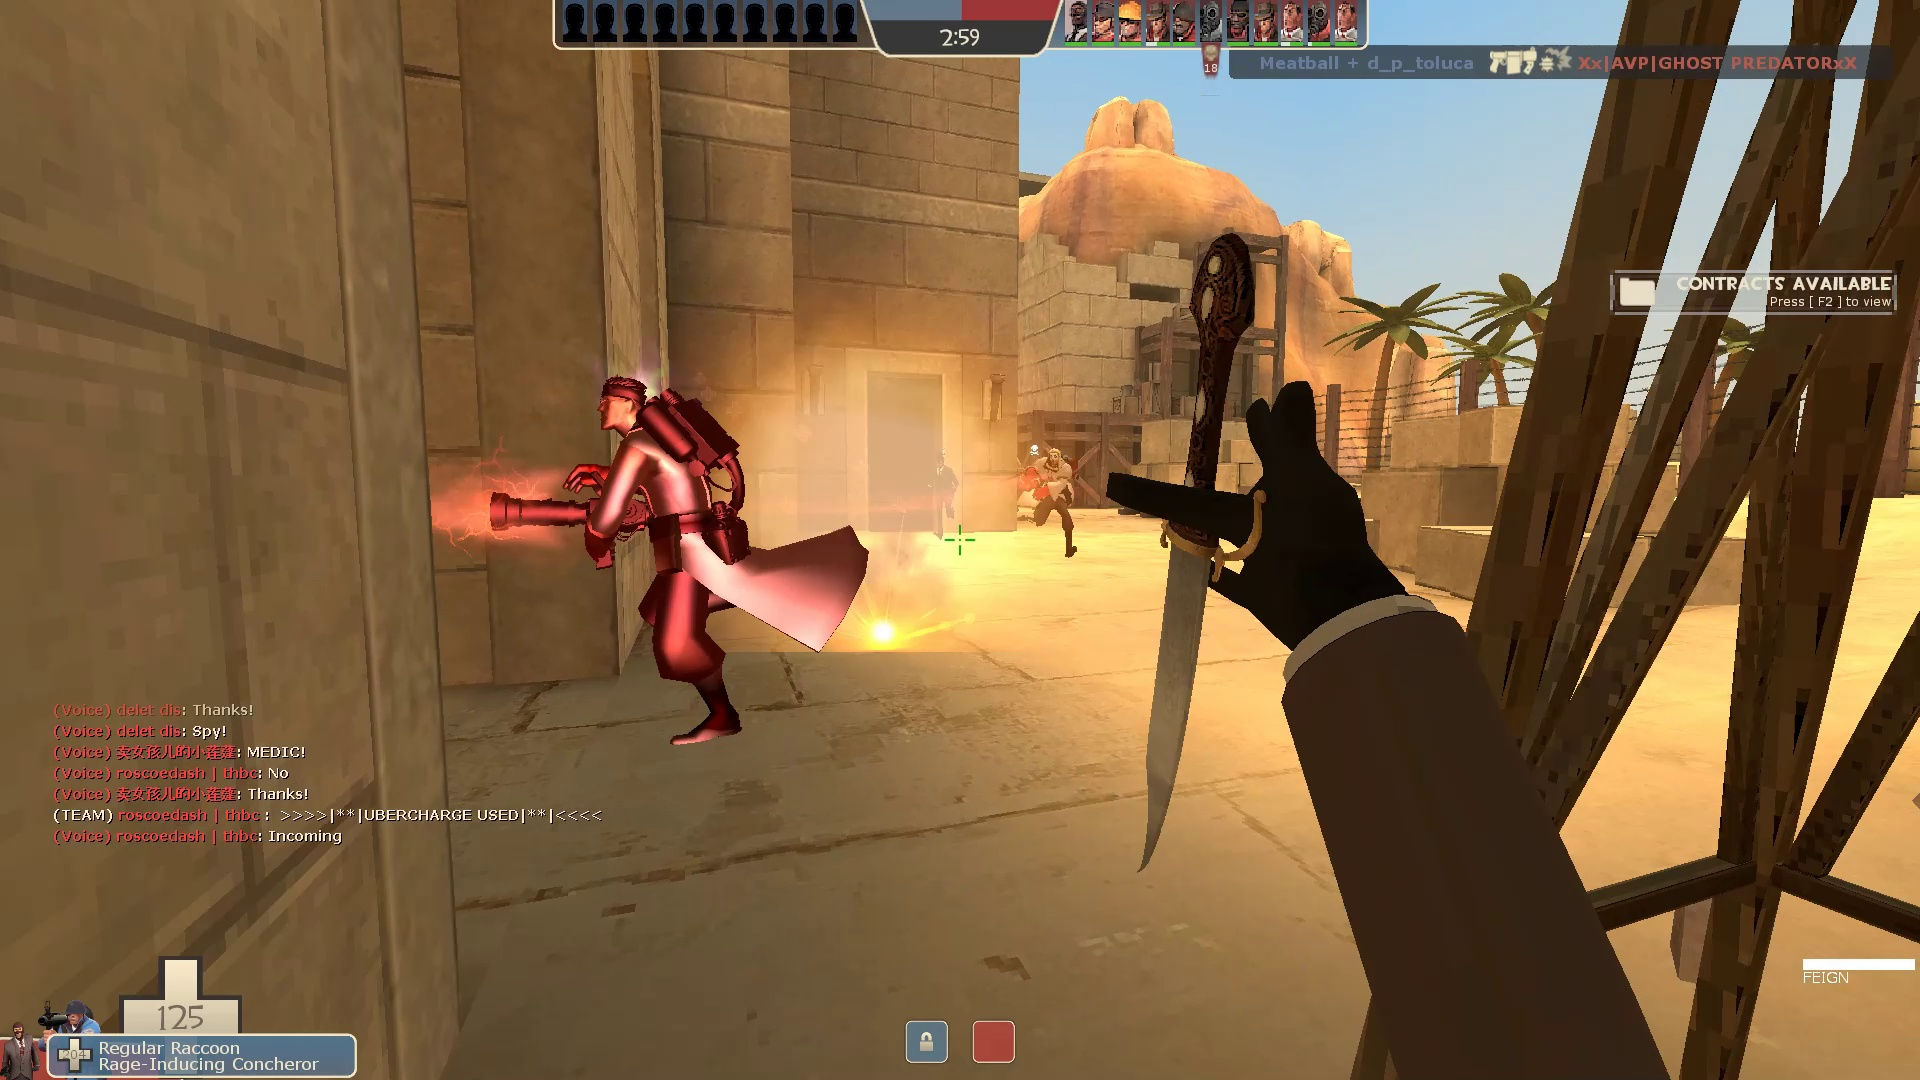blu_spy: (920, 443, 965, 543)
red_medic: (1014, 443, 1089, 563)
red_medic_uber: (468, 365, 873, 753)
